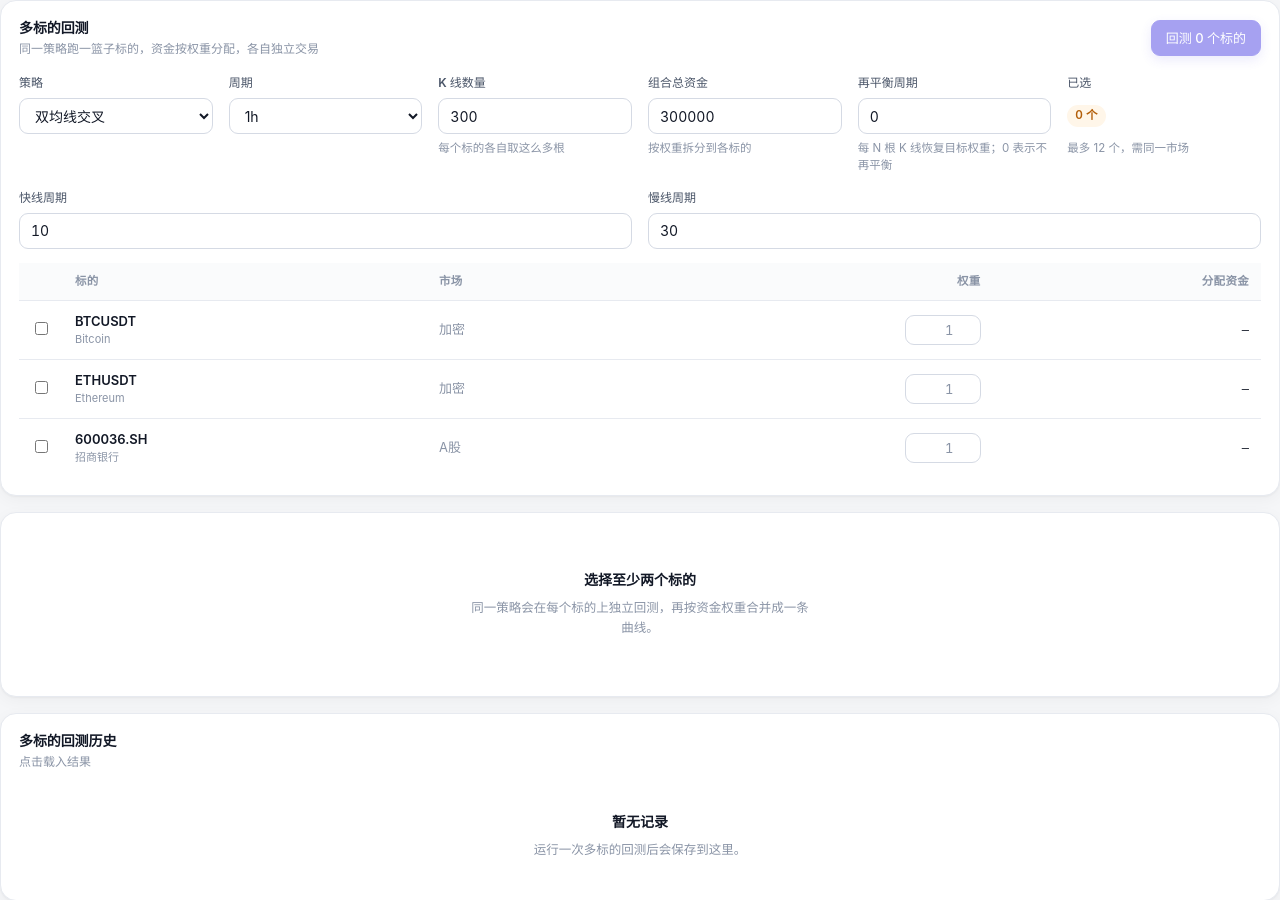
Test case: MultiSymbolPanel › locks the picker to one market after the first selection
Click the row "BTCUSDT Bitcoin 加密 —" at {"x": 640, "y": 330}, box [19, 301, 1261, 360]
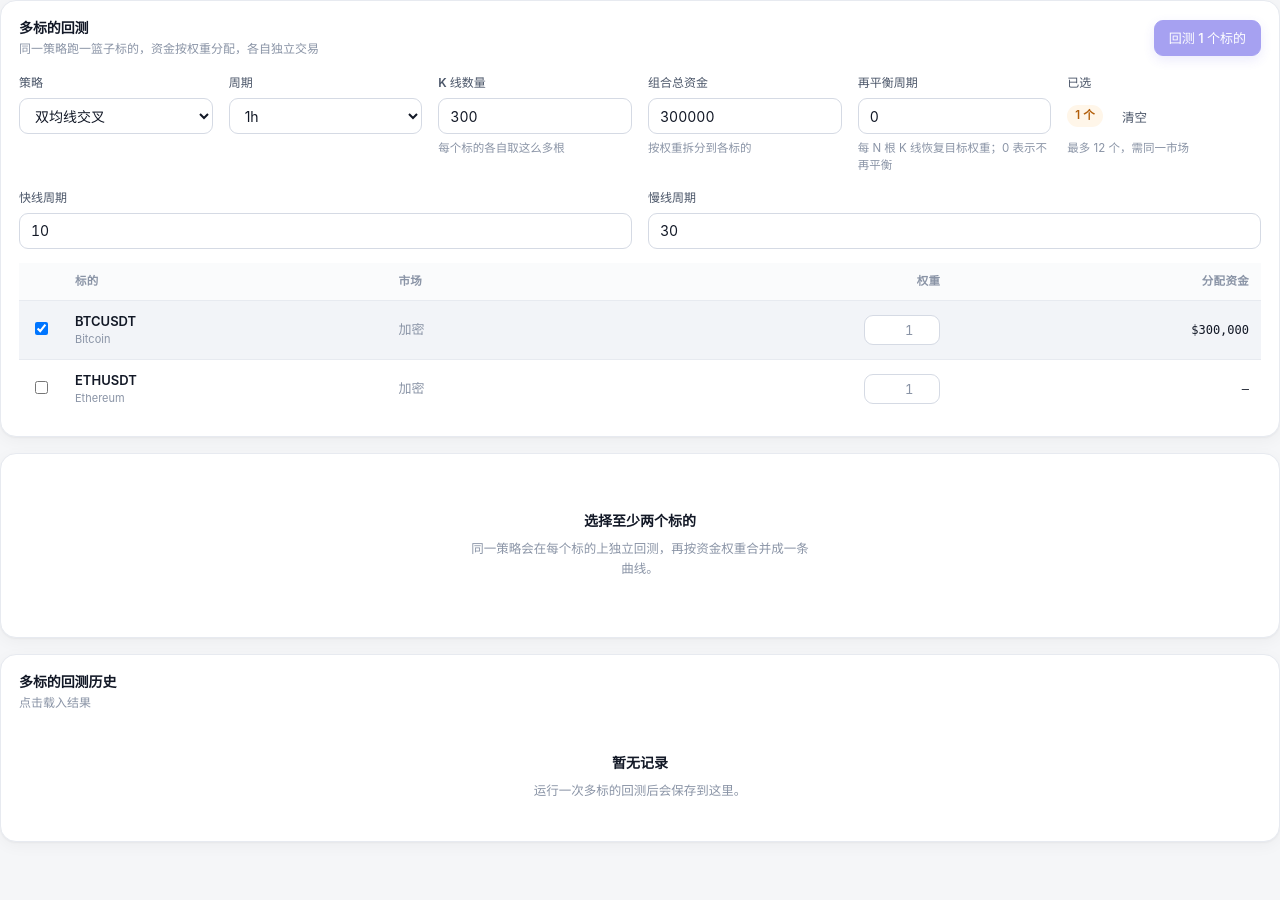
expect the text "1 个" is shown: met, box [1154, 20, 1261, 56]
